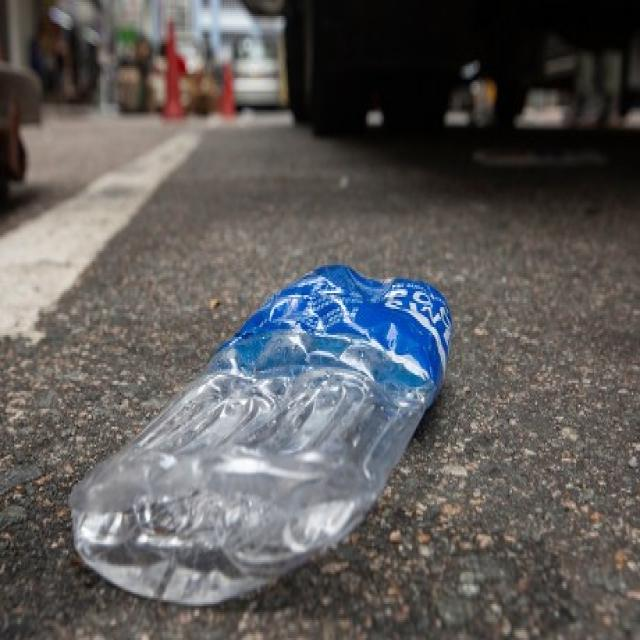plastic bottle: (64, 251, 454, 601)
